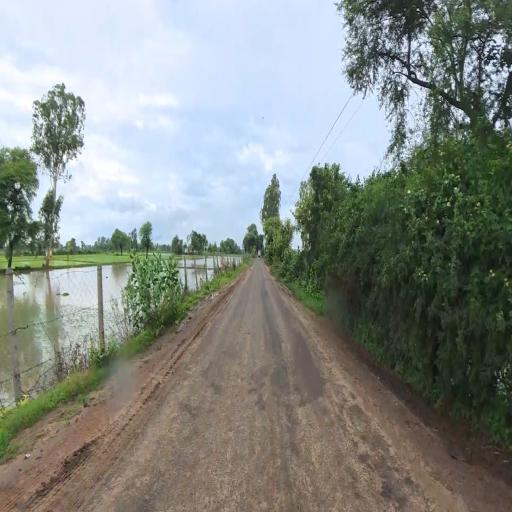ravelling: (176, 350, 376, 509)
